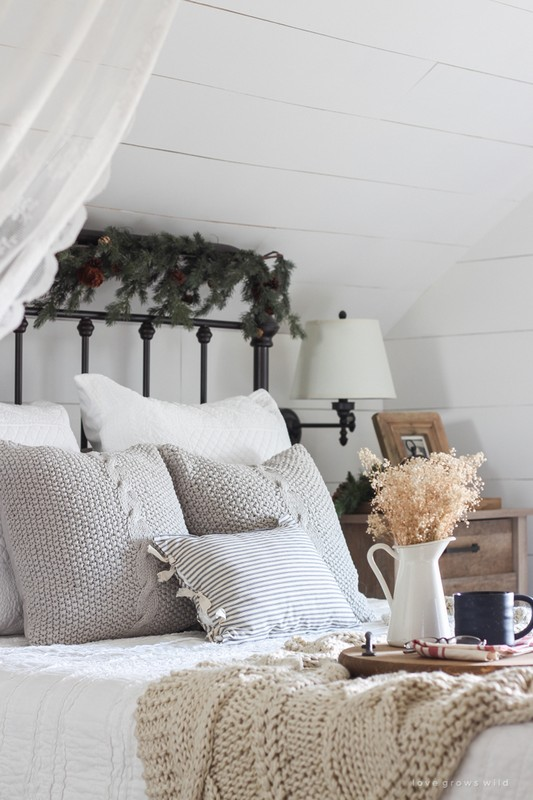bed: (1, 218, 528, 798)
lamp: (284, 310, 398, 451)
